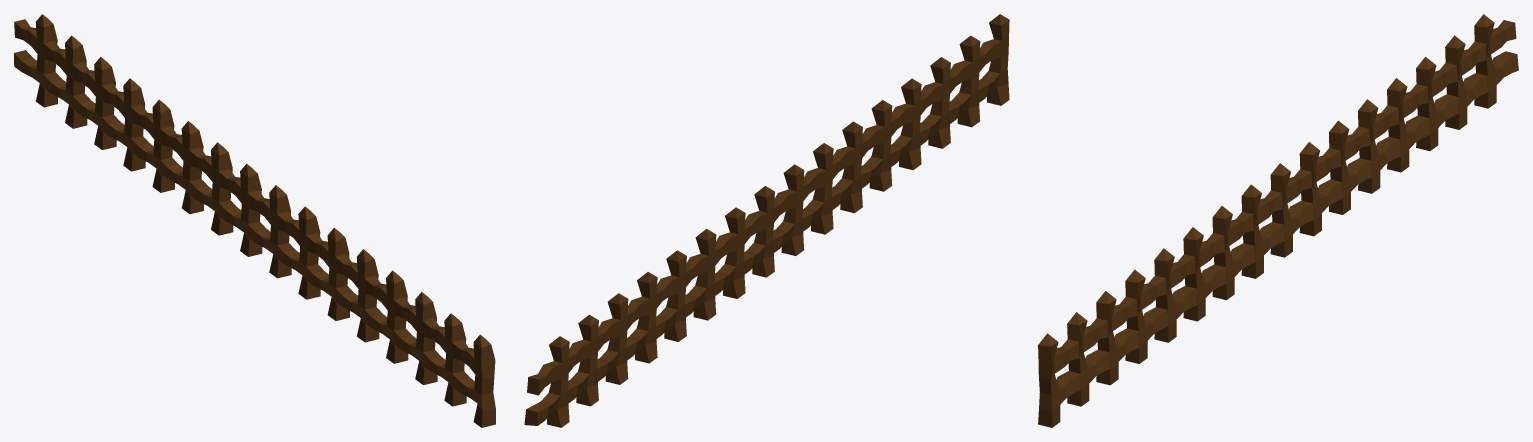
Rendered from fence_16.fbx.
3 views of the same model, side by side, from view 1: azimuth 30°, elevation 25°; view 2: azimuth 150°, elevation 25°; view 3: azimuth 330°, elevation 25° (orthographic).
Visible parts, largest first — view 1: Cube; view 2: Cube; view 3: Cube.
Boxes of the visible parts, bbox=[...] form: Cube: bbox=[14, 14, 495, 427]; Cube: bbox=[524, 14, 1009, 427]; Cube: bbox=[1038, 14, 1518, 427].
Size of the model in its own units: 60.8 by 325 by 3120.
